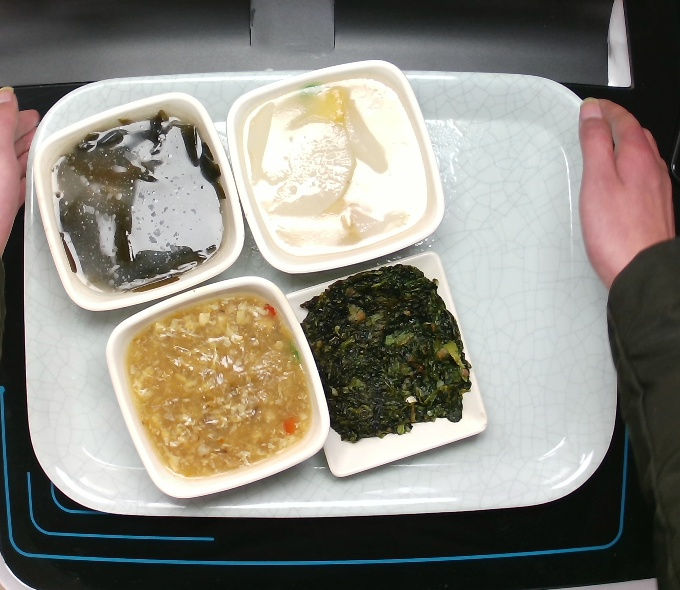wcq-HaiDaiPaiGuTang: (49, 110, 227, 296)
wcq-LuoBoYouPaoTang: (244, 74, 431, 259)
wcq-QinCaiBing: (298, 262, 472, 446)
wcq-SuanLaGeng: (124, 293, 316, 479)
